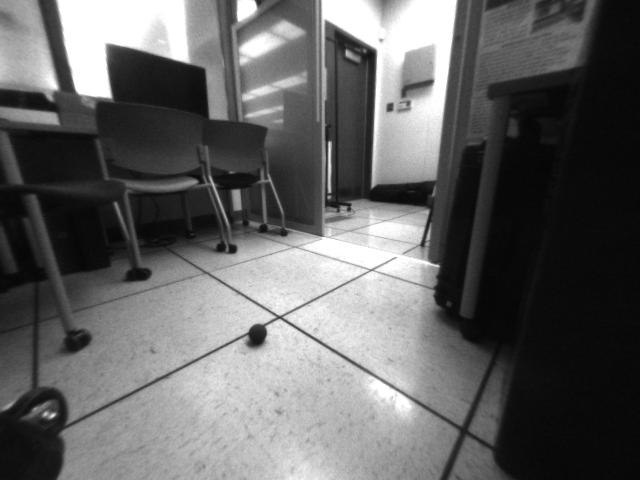dogtoy: (240, 317, 275, 351)
